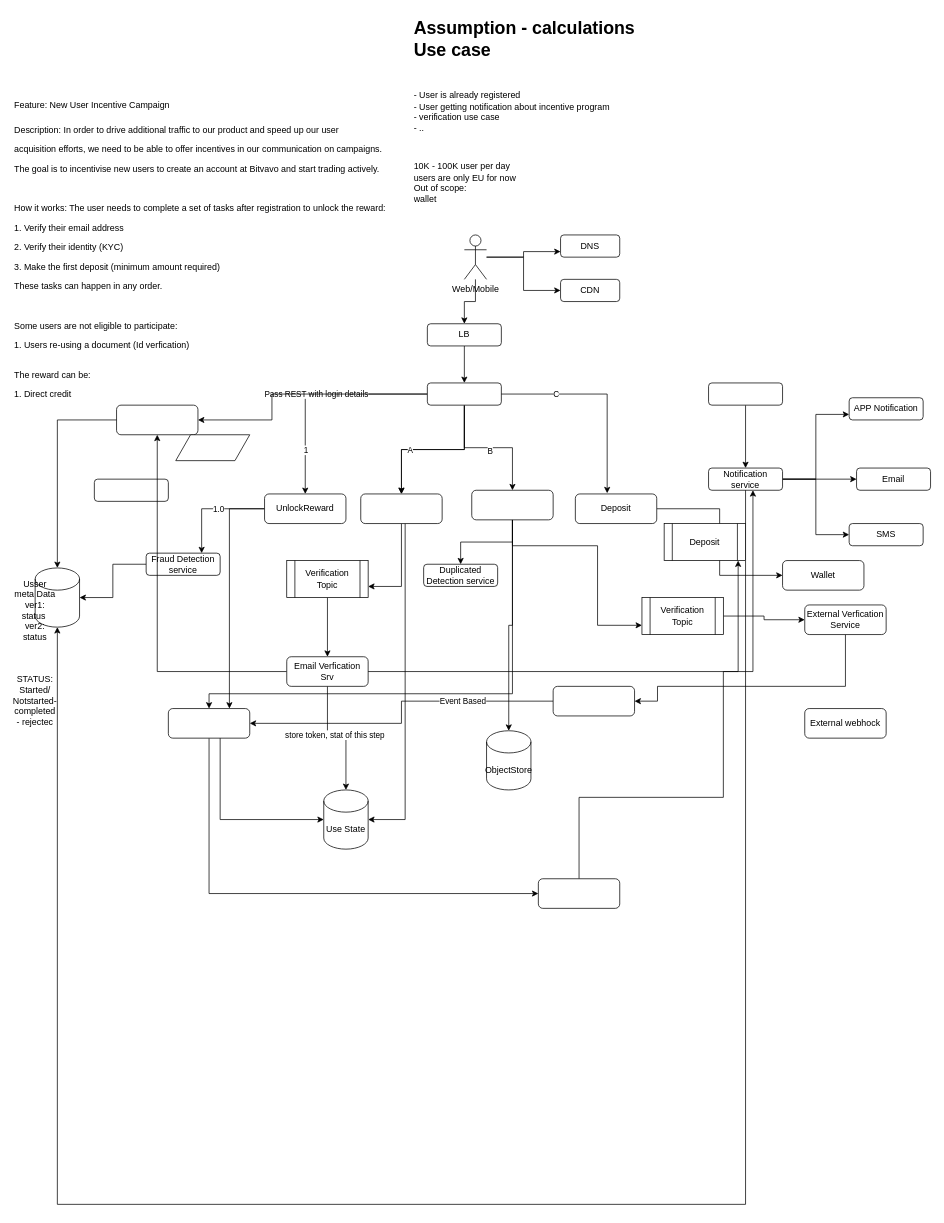
Image size: 944x1223. Some labels were removed from this diagram. The centre of each missing label's shape, as x and y in pixels:
"Cache" goes at (212,447).
"Email Verfication" goes at (401,508).
"Incentive Engine" goes at (745,393).
"KYC" goes at (512,505).
"KYC consumer Ver. Ser" goes at (593,701).
"MySQL" goes at (57,597).
"registeraion email vervication KYC deposit" goes at (131,489).
"Registration User Mangment servce" goes at (157,419).
"RewardCheck" goes at (579,893).
"State Mangment service" goes at (209,723).
"WebServer" goes at (464,393).
